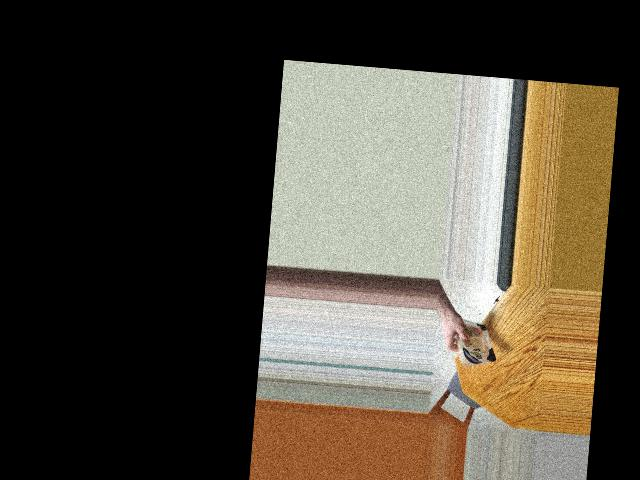cheese: (456, 314, 496, 365)
